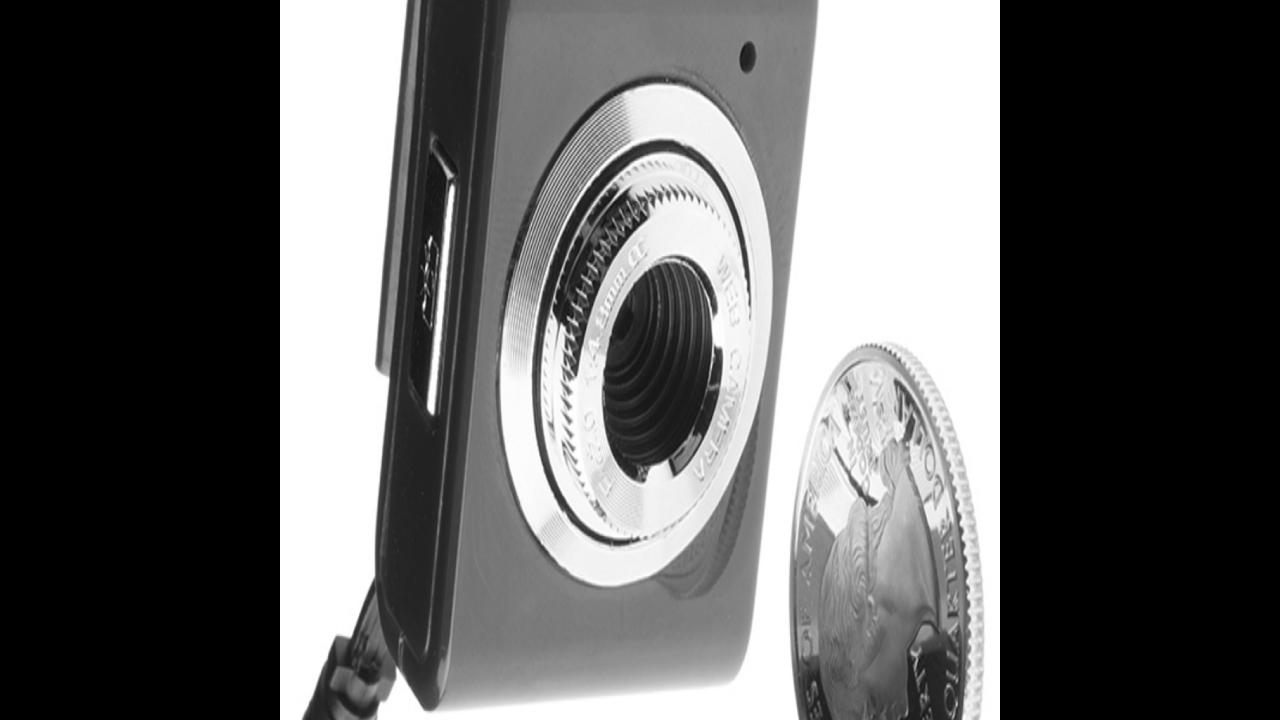coin: (786, 335, 985, 720)
